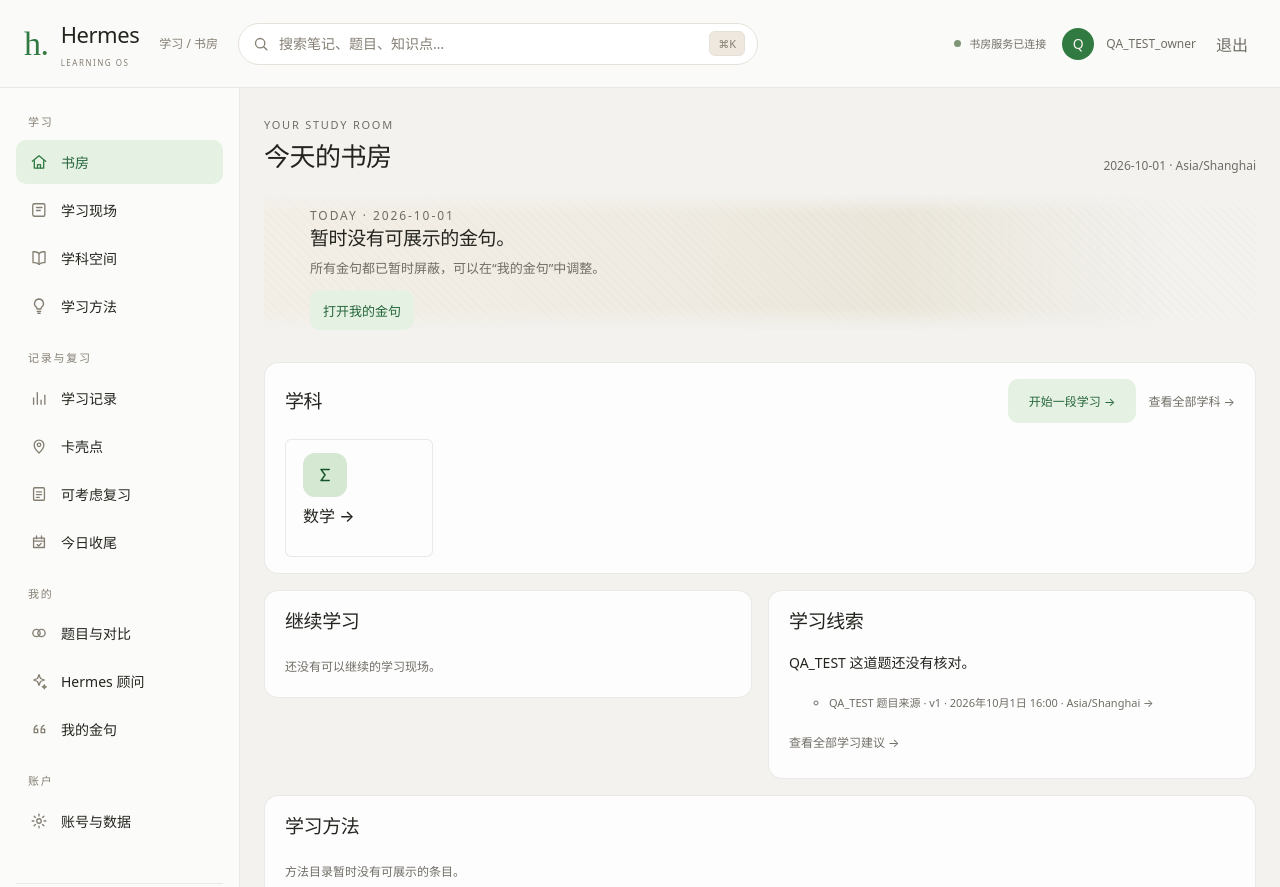
Test case: sidebar navigation resets page-scoped state › closes the problem detail panel when entering 题目与对比 from the sidebar
Click the button "QA_TEST 题目来源 · v1 · 2026年10月1日 16:00 · Asia/Shanghai →" at (993, 702), box [829,682,1158,722]
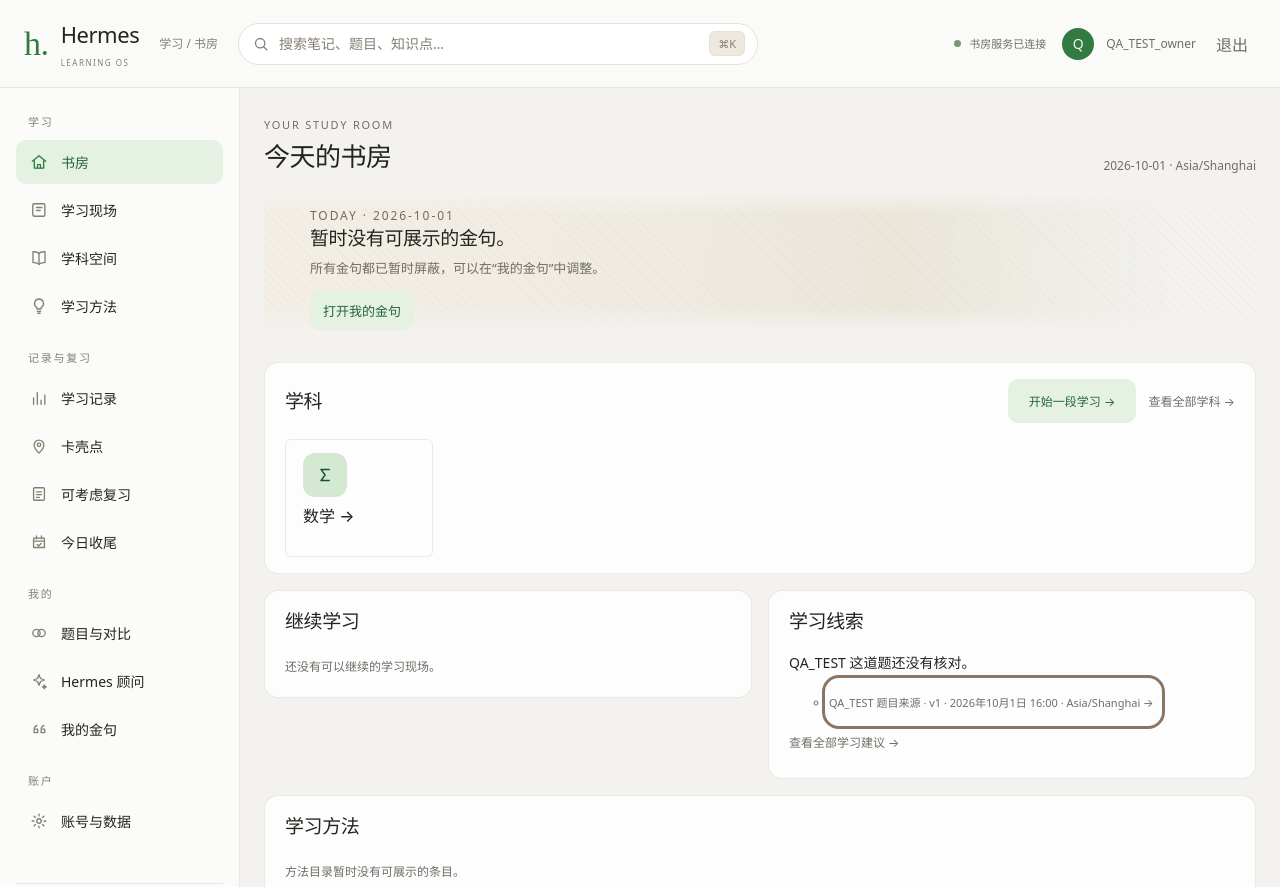
Click the button "题目与对比" at (120, 633), box [16,611,223,655]
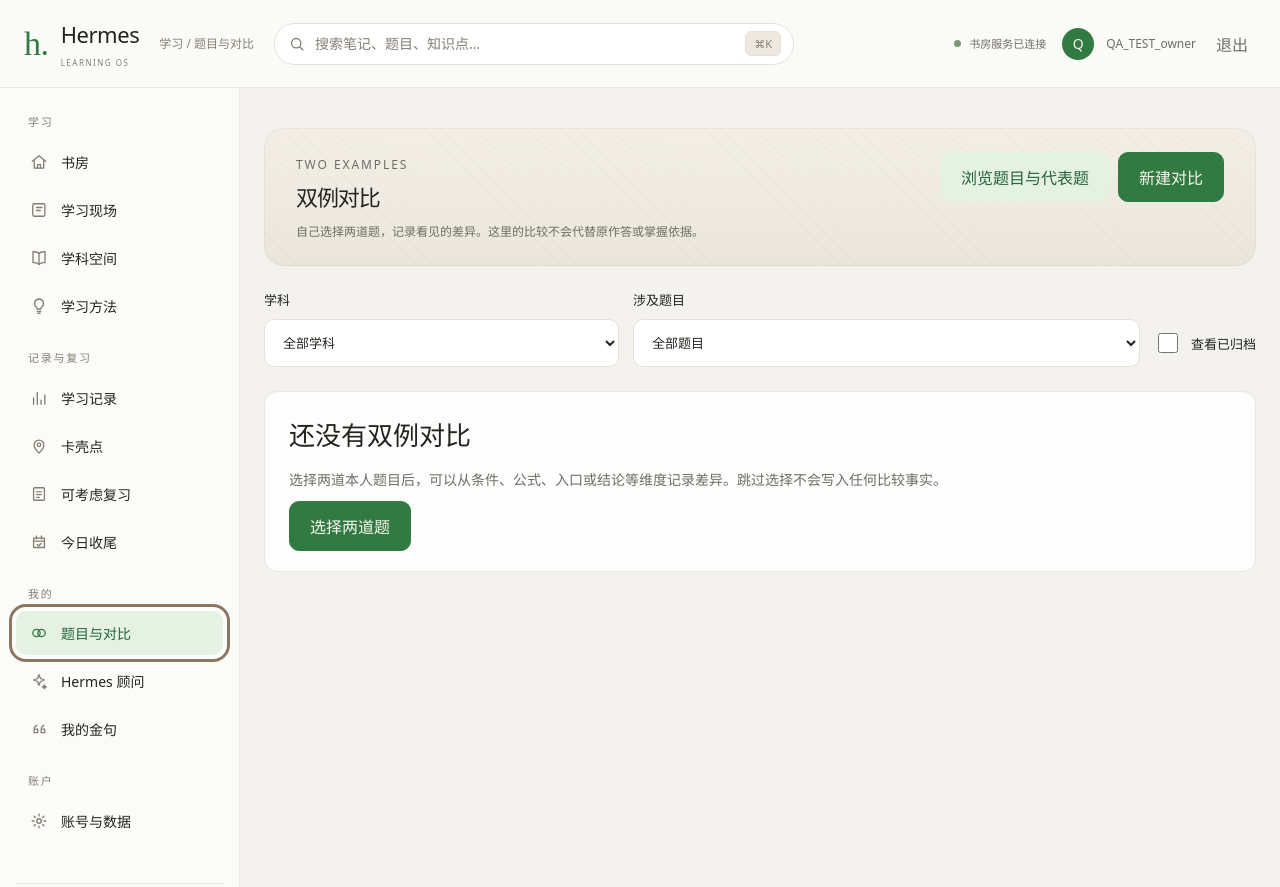
Result: the heading "双例对比" is shown at [296,182,380,212]
